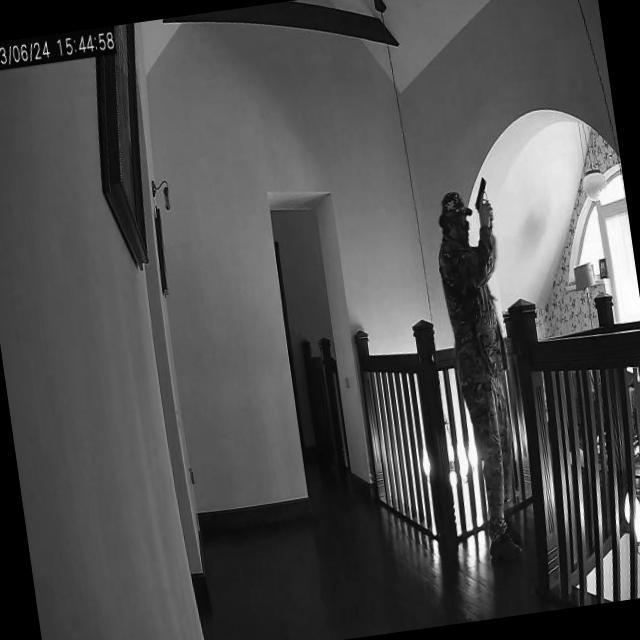gun: (474, 174, 494, 221)
person with a gun: (430, 188, 524, 566)
